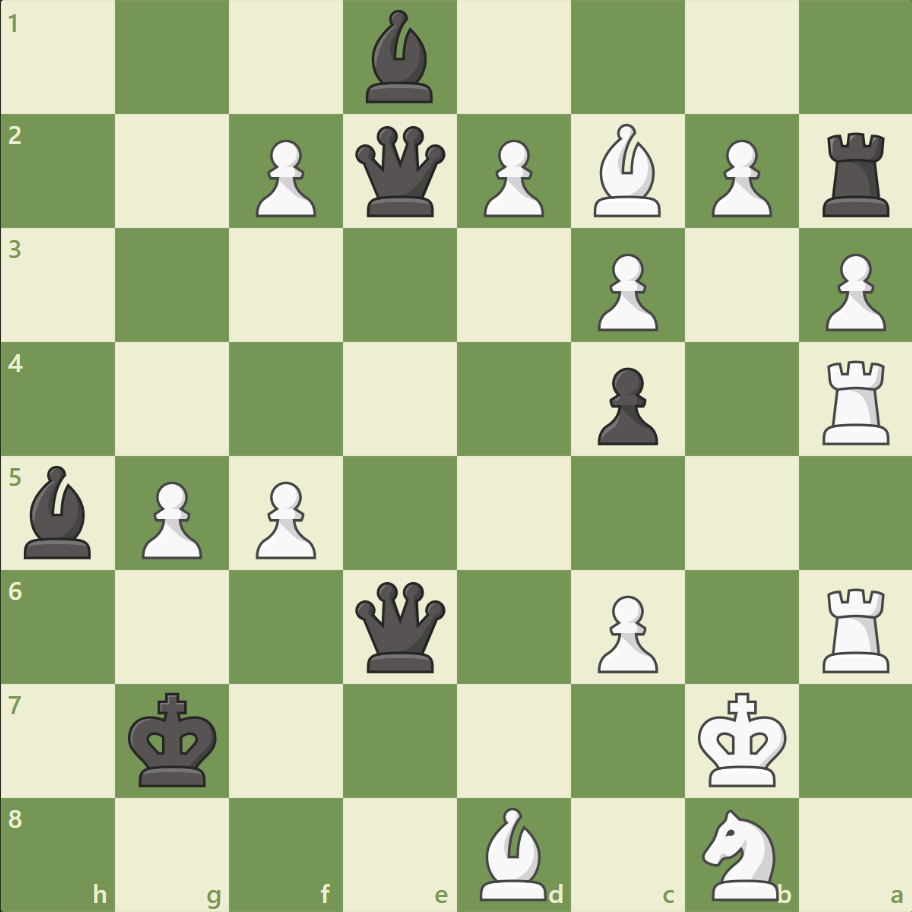B: (471, 801, 555, 904), (585, 120, 669, 222)
K: (692, 685, 792, 793)
N: (692, 802, 789, 904)
P: (247, 473, 322, 564), (133, 473, 208, 564), (701, 132, 776, 223), (474, 132, 549, 223), (247, 132, 322, 223), (588, 586, 662, 677), (815, 246, 889, 337), (588, 246, 662, 337)
R: (814, 579, 897, 676), (814, 352, 897, 449)
b: (17, 460, 101, 563), (358, 6, 442, 109)
k: (124, 685, 224, 793)
p: (588, 359, 662, 450)
q: (351, 576, 450, 676), (351, 122, 450, 222)
r: (814, 125, 897, 222)
